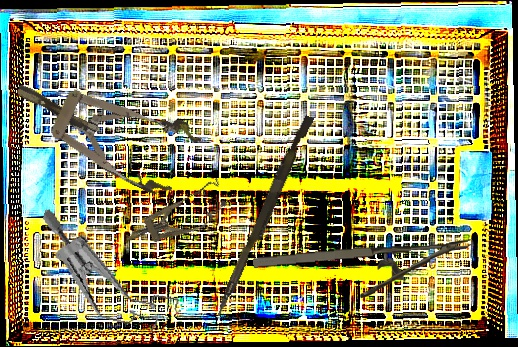Needle Holder: (252, 239, 475, 304)
Pusher: (214, 112, 315, 321)
Speculum: (2, 52, 205, 203), (21, 207, 198, 341), (118, 177, 234, 258)
